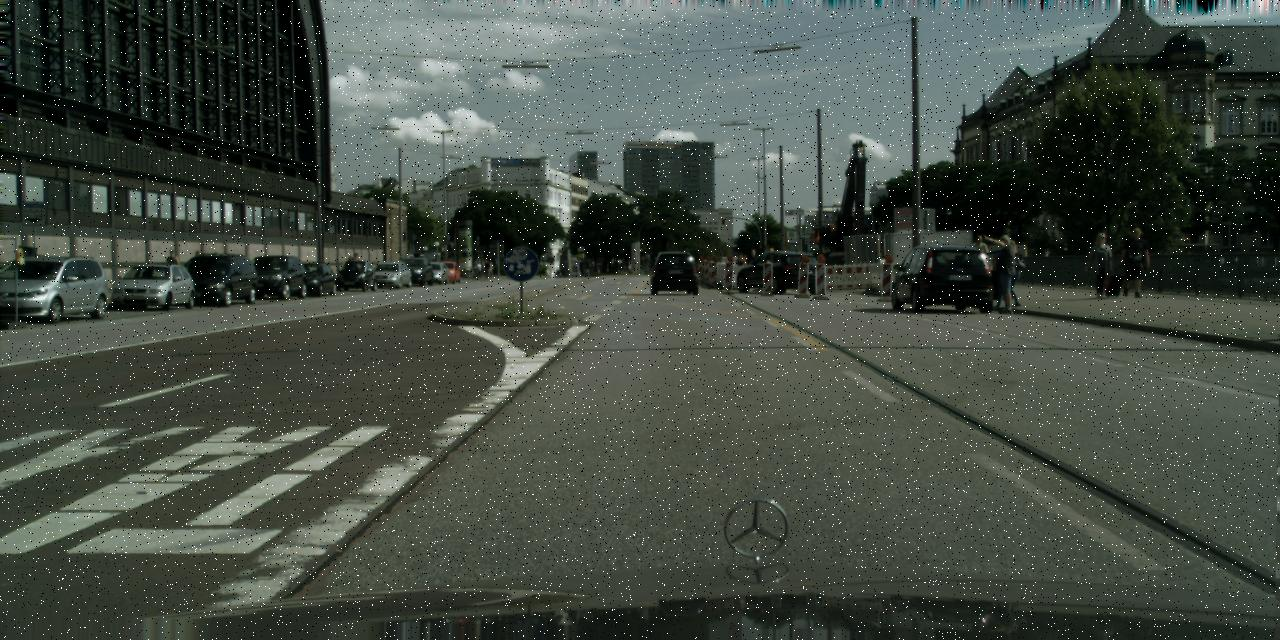ped: (990, 234, 1022, 312), (1119, 227, 1147, 296), (996, 239, 1023, 307), (1087, 233, 1113, 298), (967, 234, 991, 294), (163, 249, 179, 290), (190, 250, 206, 288), (746, 248, 760, 284), (472, 258, 494, 280), (733, 252, 746, 286), (350, 252, 360, 282), (344, 256, 354, 281)
